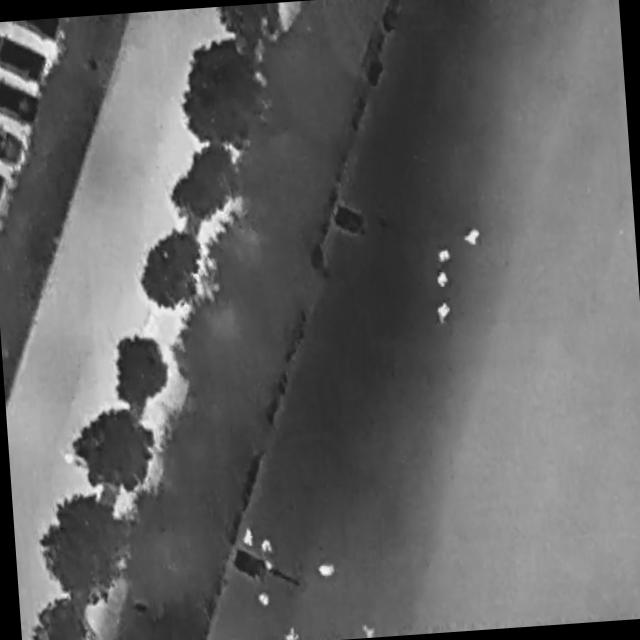person: (461, 223, 485, 249), (433, 299, 454, 328), (319, 563, 336, 579), (437, 271, 450, 291), (243, 527, 255, 547), (437, 247, 451, 264), (260, 540, 274, 555), (362, 623, 376, 638), (283, 627, 298, 640), (258, 594, 270, 607)
